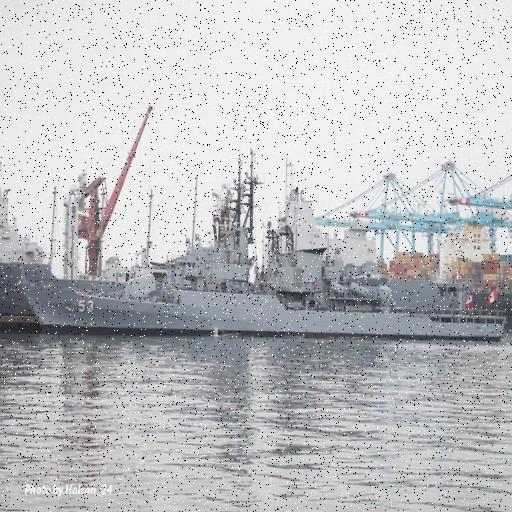Fragata: (17, 170, 509, 341)
